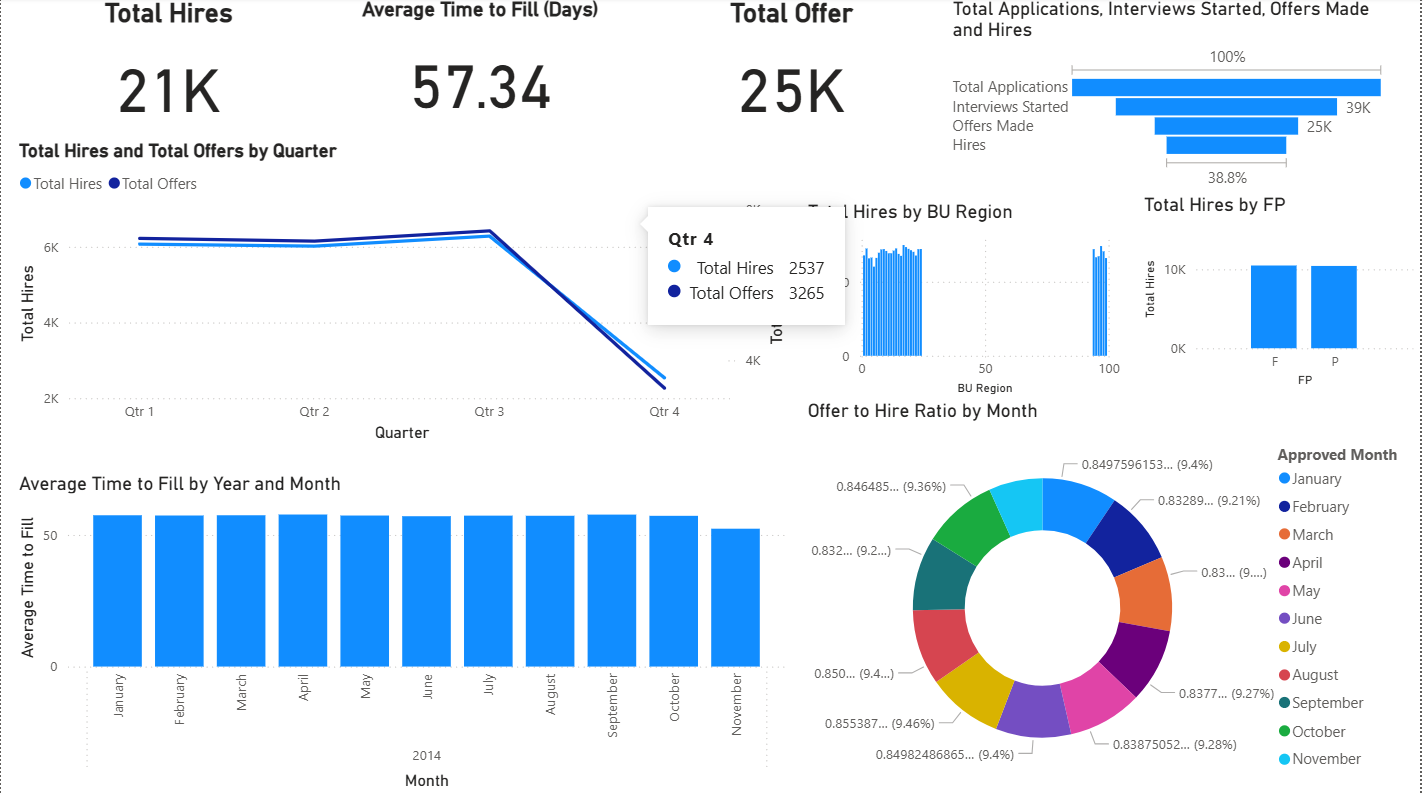

This screenshot's page, from the dashboard's own definition file:
{"tool":"powerbi","page":{"name":"Hiring Data ","canvas":[1280,720],"ordinal":0},"visuals":[{"type":"card","title":"Total Hires","fields":{"Values":["2014.Total Hires"]},"box":[11.5,0,279.9,128.4],"z":0},{"type":"card","title":"Total Offer ","fields":{"Values":["2014.Total Offers"]},"box":[571.3,0,282.8,128.4],"z":1},{"type":"card","title":"Average Time to Fill (Days)","fields":{"Values":["2014.Average Time to Fill"]},"box":[291.4,0,279.9,128.4],"z":2},{"type":"lineChart","fields":{"Category":["2014.Approved.Variation.Date Hierarchy.Quarter"],"Y":["2014.Total Hires"],"Y2":["2014.Total Offers"]},"box":[11.5,128.4,701.2,277],"z":3},{"type":"clusteredColumnChart","fields":{"Y":["2014.Average Time to Fill"],"Category":["2014.Approved.Variation.Date Hierarchy.Year","2014.Approved.Variation.Date Hierarchy.Month"]},"box":[11.5,428.5,701.2,291.4],"z":4},{"type":"donutChart","fields":{"Y":["2014.Offer to Hire Ratio"],"Category":["2014.Approved.Variation.Date Hierarchy.Month"]},"box":[722.7,363.2,557.6,357.1],"z":5},{"type":"columnChart","fields":{"Y":["2014.Total Hires"],"Category":["2014.FP"]},"box":[1026,177.3,253.1,179.8],"z":6},{"type":"columnChart","fields":{"Y":["2014.Total Hires"],"Category":["2014.BU Region"]},"box":[722.7,183.4,292.3,179.8],"z":7},{"type":"funnel","fields":{"Y":["2014.Total Applications","2014.Interviews Started","2014.Offers Made","2014.Hires"]},"box":[853.5,0,401.1,177.3],"z":8}]}

Visuals, with their boxes in screenshot pixels (x1, y1, x2, y2), scaled from the page's 1280x720 canvas onto the 1423x795 screenshot:
"Total Hires" card: box(13, 0, 324, 142)
"Total Offer " card: box(635, 0, 950, 142)
"Average Time to Fill (Days)" card: box(324, 0, 635, 142)
lineChart - 2014.Approved.Variation.Date Hierarchy.Quarter x 2014.Total Hires: box(13, 142, 792, 448)
clusteredColumnChart - 2014.Average Time to Fill x 2014.Approved.Variation.Date Hierarchy.Year: box(13, 473, 792, 794)
donutChart - 2014.Offer to Hire Ratio x 2014.Approved.Variation.Date Hierarchy.Month: box(803, 401, 1422, 794)
columnChart - 2014.Total Hires x 2014.FP: box(1141, 196, 1422, 394)
columnChart - 2014.Total Hires x 2014.BU Region: box(803, 203, 1128, 401)
funnel - 2014.Total Applications x 2014.Interviews Started: box(949, 0, 1395, 196)
